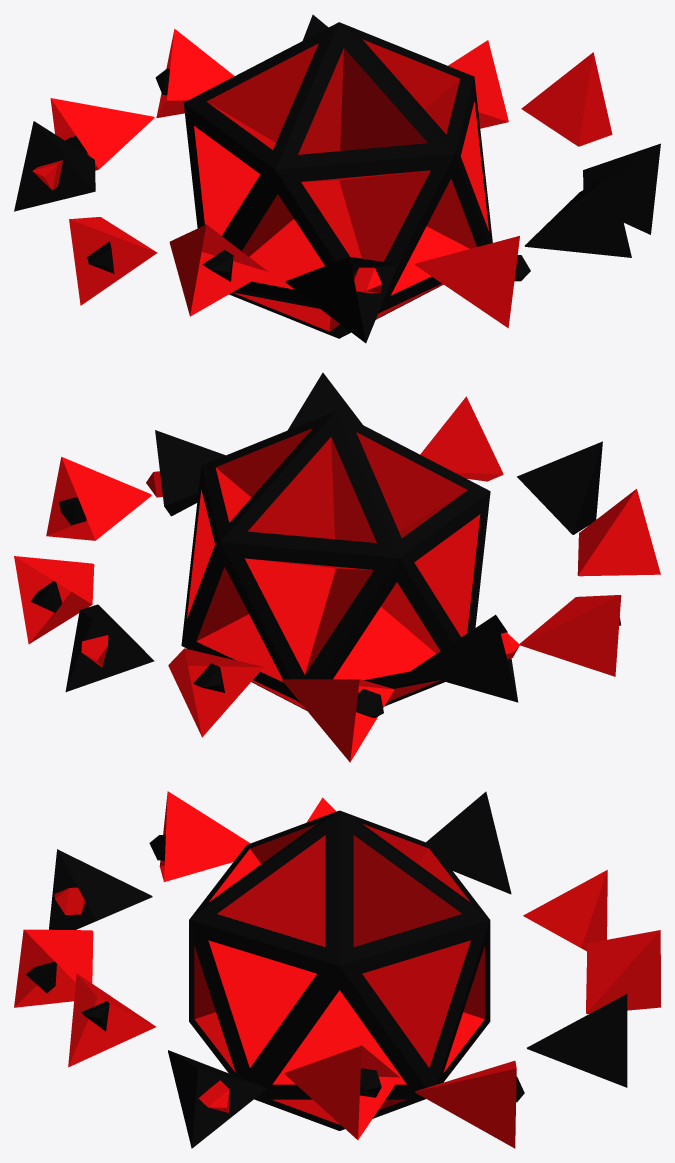
File: silah3.fbx
The picture shows the model from 3 angles, top to bottom: view 1: azimuth 30°, elevation 25°; view 2: azimuth 150°, elevation 25°; view 3: azimuth 270°, elevation 25°; orthographic projection.
Visible parts, largest first — view 1: Icosphere.002, Icosphere.006; view 2: Icosphere.002, Icosphere.006; view 3: Icosphere.002, Icosphere.006.
Boxes of the visible parts, x1,y1,x2,y2 form: Icosphere.002: (183, 22, 492, 338); Icosphere.006: (14, 14, 660, 343); Icosphere.002: (181, 411, 490, 710); Icosphere.006: (14, 372, 660, 762); Icosphere.002: (189, 810, 490, 1130); Icosphere.006: (14, 791, 660, 1148).
Size of the model in its own units: 185 by 100 by 183.
